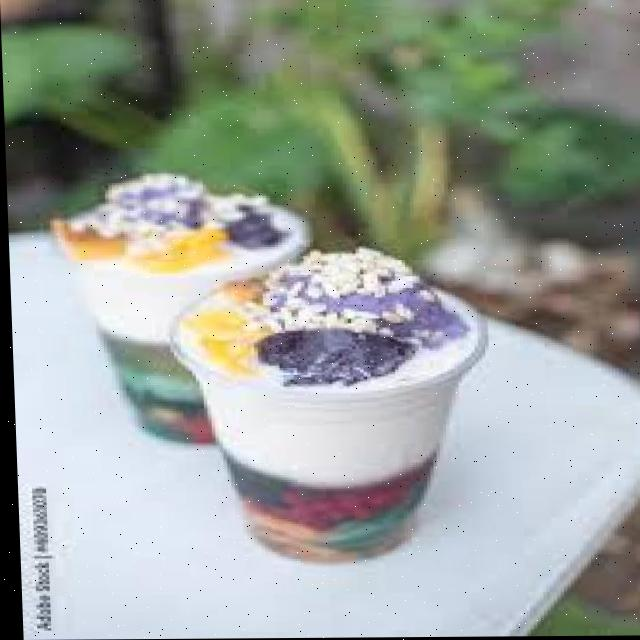cup: (146, 254, 488, 596)
